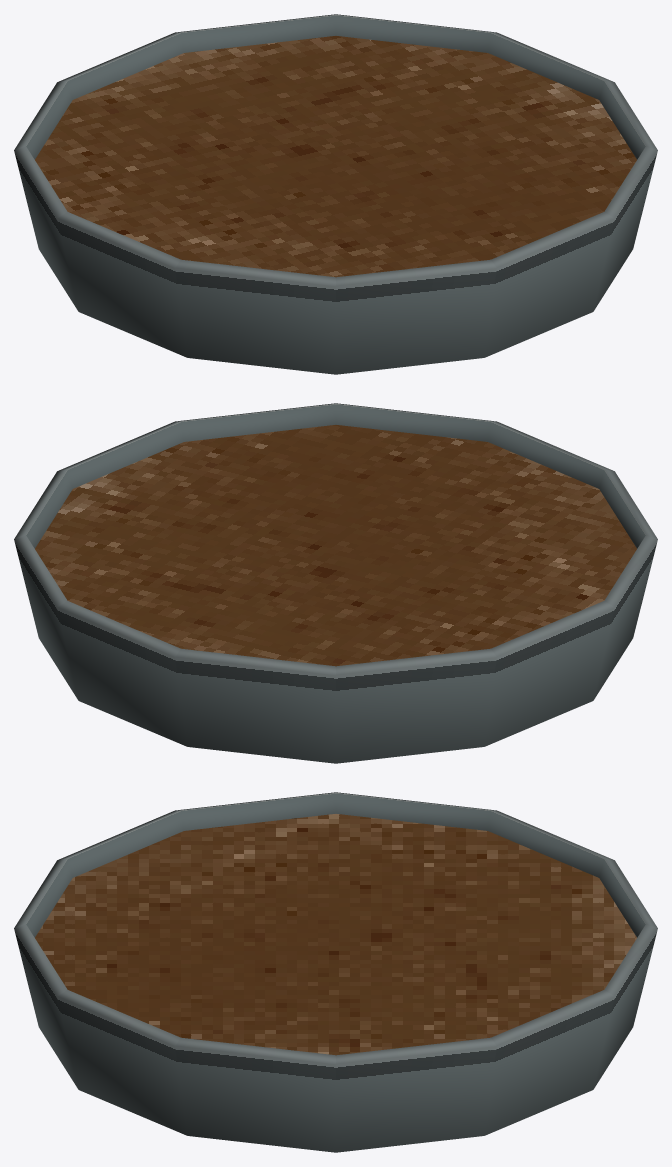
The model's file is TiramisuPan.fbx.
3 renders of one model, top to bottom at view 1: azimuth 30°, elevation 25°; view 2: azimuth 150°, elevation 25°; view 3: azimuth 270°, elevation 25°, orthographic.
Parts seen in each view (by area): view 1: TiramisuPan; view 2: TiramisuPan; view 3: TiramisuPan.
Part boxes in pixels (box(x1,y1,x2,y2)): TiramisuPan: box(14, 14, 657, 374); TiramisuPan: box(14, 403, 657, 763); TiramisuPan: box(14, 792, 657, 1152).
Bounding box in the file's own units: 44.63 × 7.86 × 44.63.
